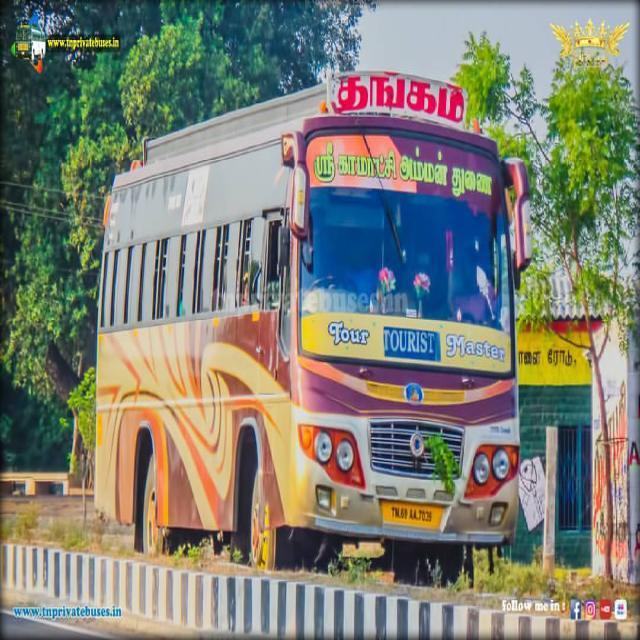Bus: (92, 71, 534, 584)
